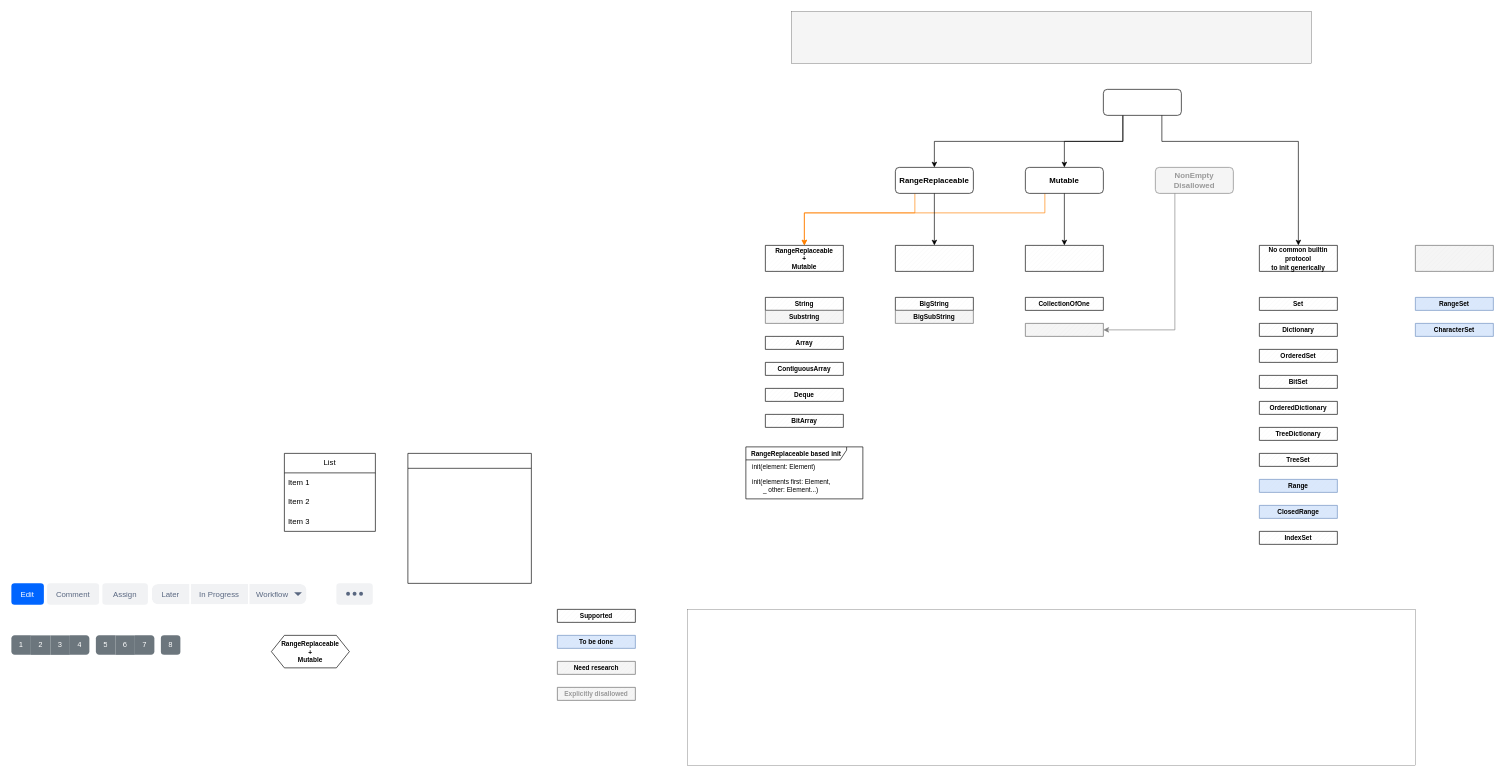
Image size: 1505x777. Some labels were removed from this diagram. Each missing label, with the centre of its shape:
"Collection" goes at (1142,102).
"Empty Collection" goes at (1064,329).
"Initializers Diagram In Typealiases.swift file protocols are listed" goes at (1051,37).
"Mutable only" goes at (1064,258).
"no Collection conformance" goes at (1454,258).
"RangeReplaceable only" goes at (934,258).
"Vertical Container" goes at (469,518).
